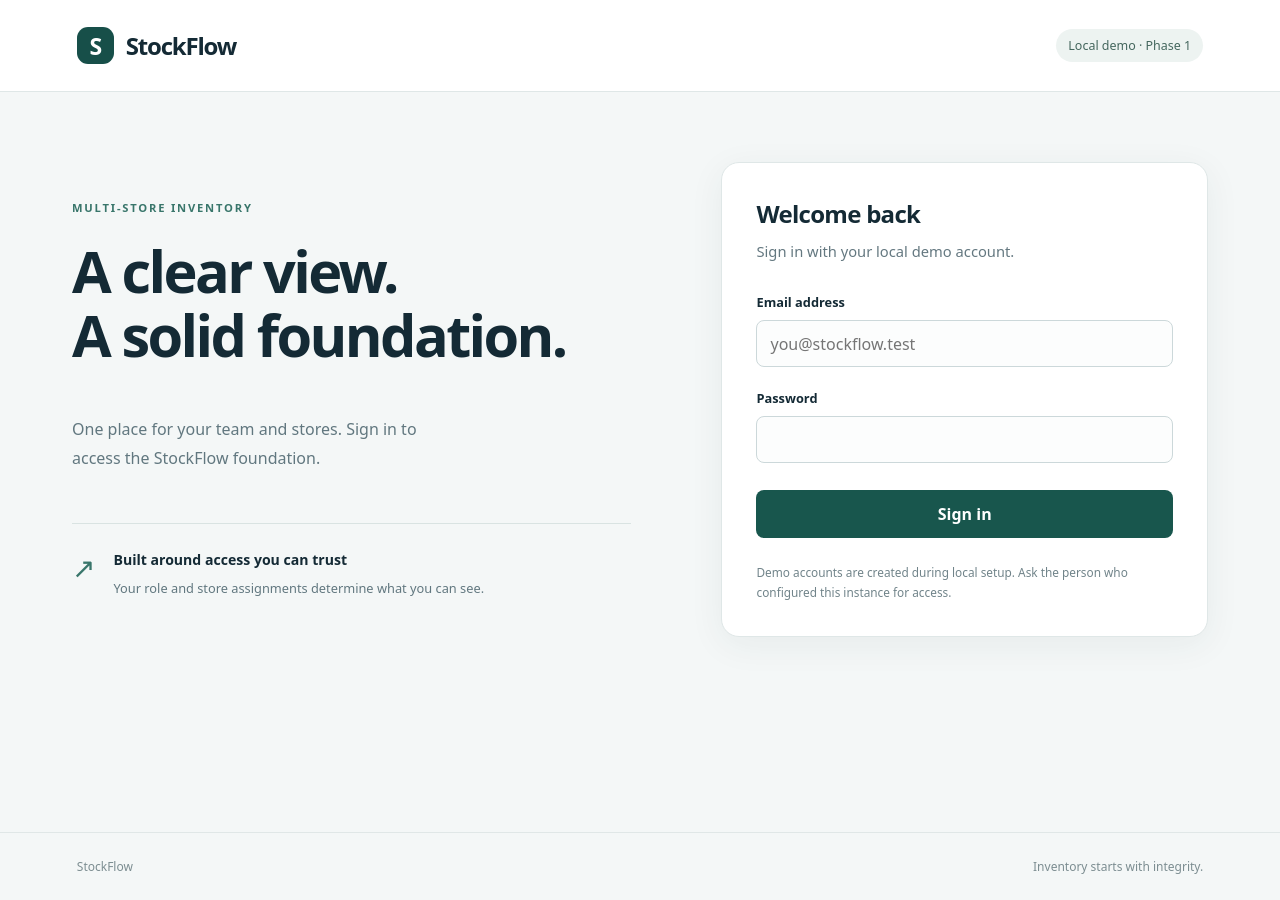
Test case: Foundation › shows failed login without entering the workspace
The width and height of the screenshot is (1280, 900).
Type "keeper@stockflow.test" into the field labelled "Email address".
click(965, 344); type("keeper@stockflow.test")  # box x1=756 y1=320 x2=1173 y2=367
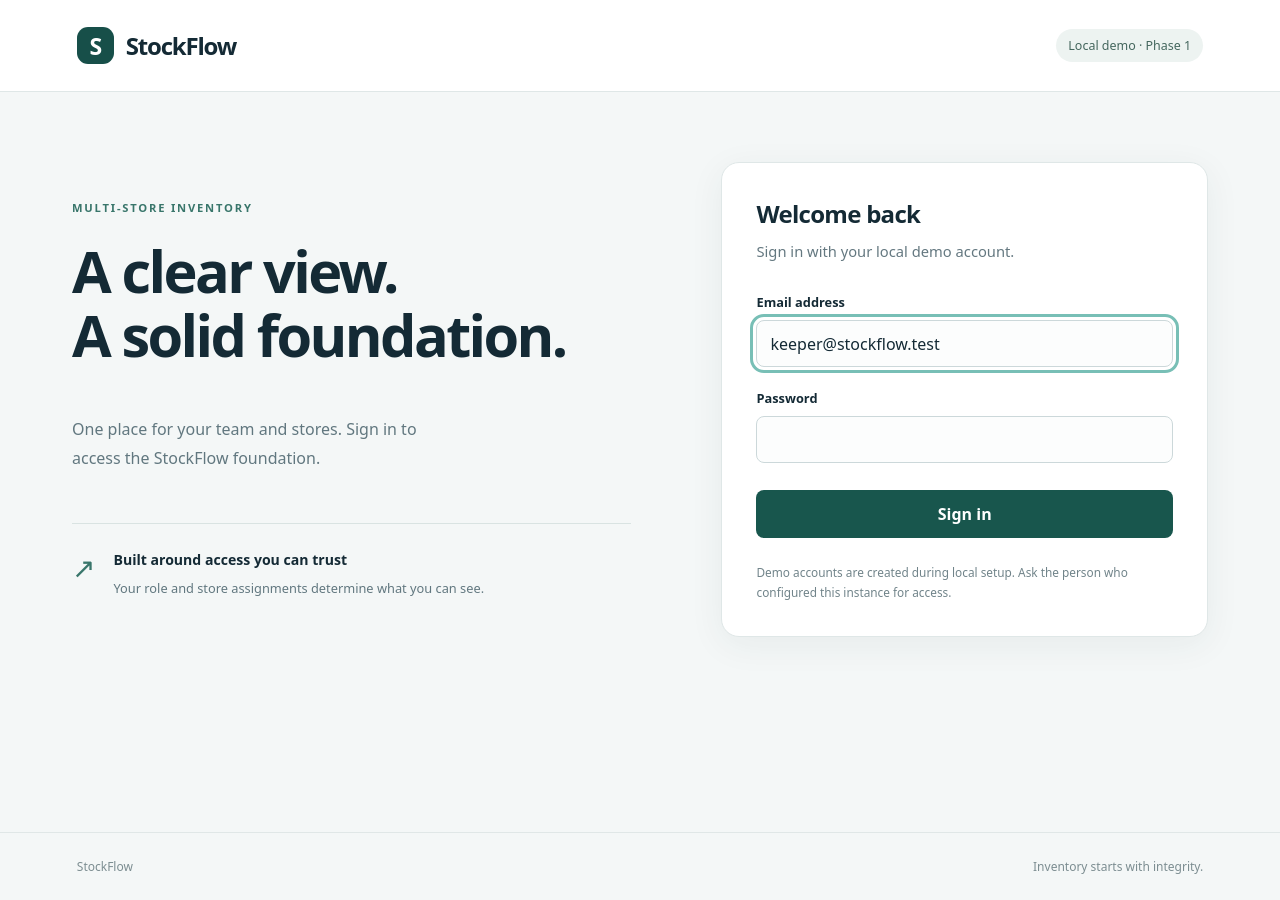
Type "wrong" into the password field labelled "Password".
click(965, 440); type("wrong")  # box x1=756 y1=416 x2=1173 y2=463
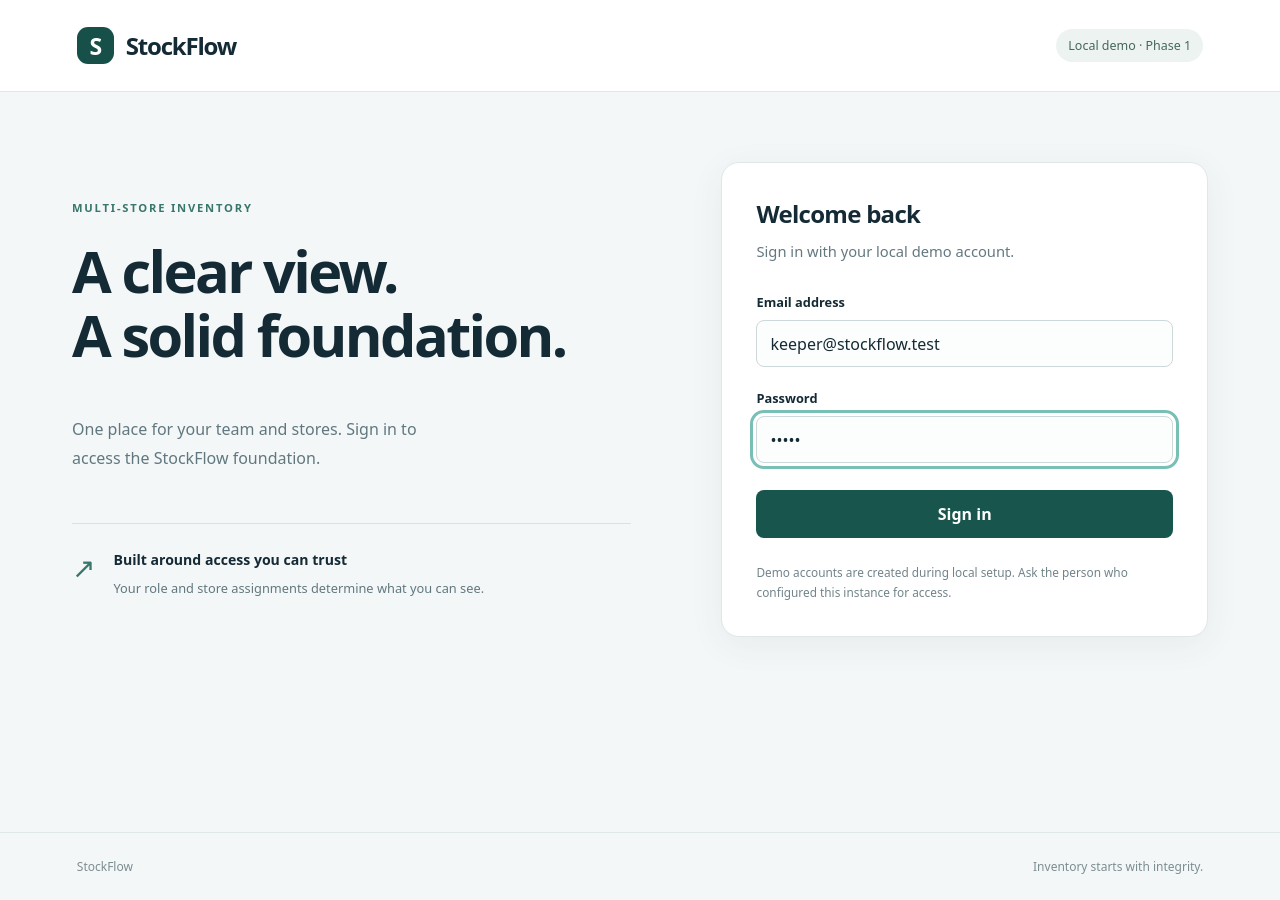
Click the button "Sign in".
click(965, 514)  # box x1=756 y1=490 x2=1173 y2=538
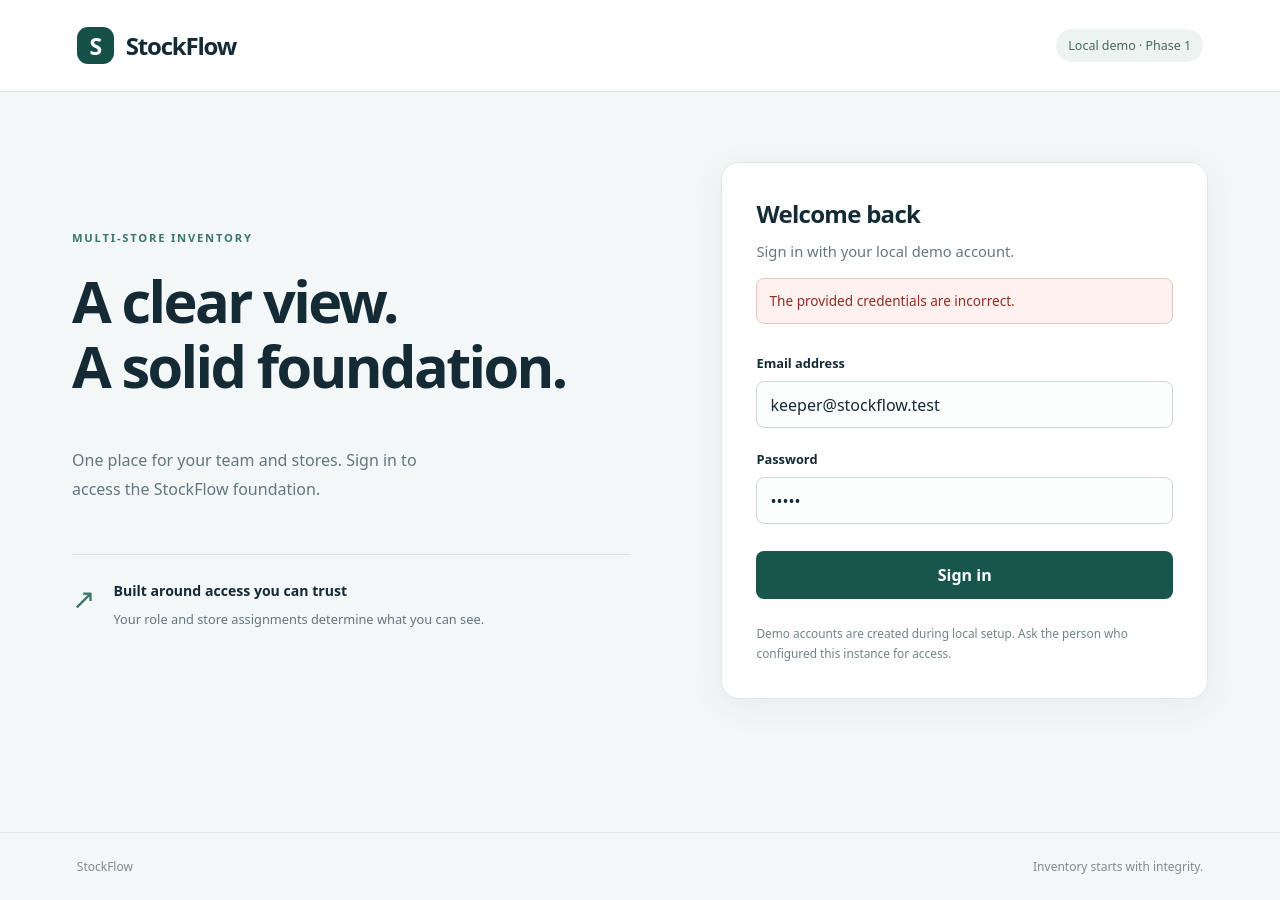
Expected: the message shows "credentials are incorrect", x1=770 y1=291 x2=1015 y2=310
